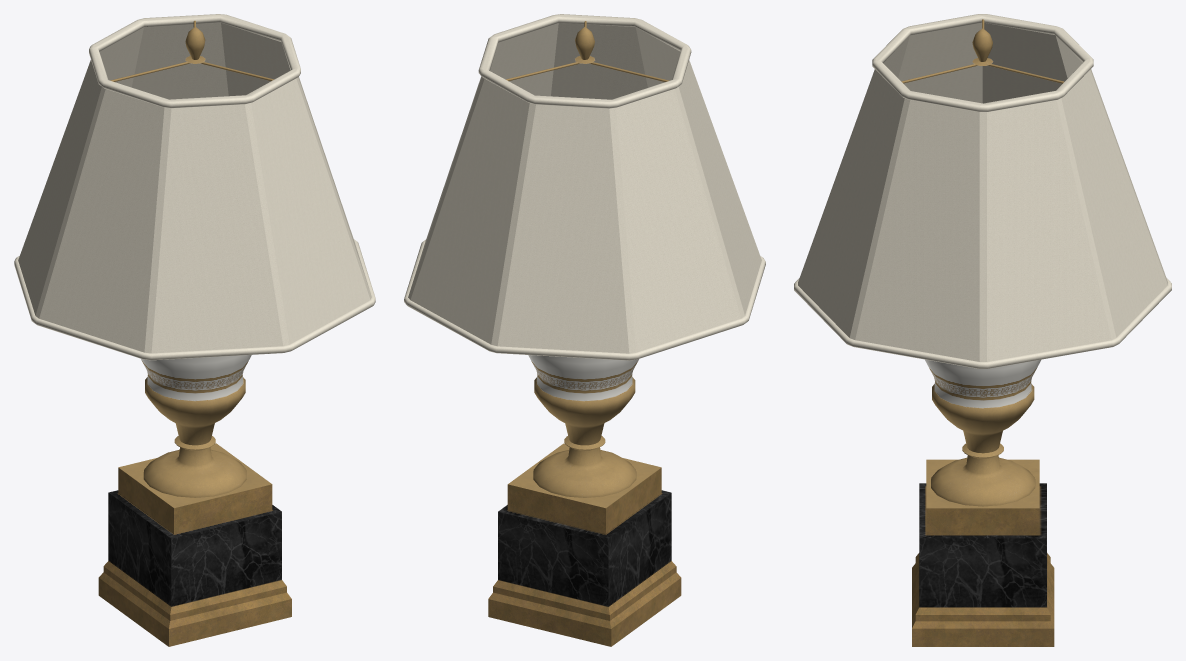
The model's file is LightTableRetro02.FBX.
3 renders of one model, left to right at view 1: azimuth 30°, elevation 25°; view 2: azimuth 150°, elevation 25°; view 3: azimuth 270°, elevation 25°, orthographic.
Visible parts, largest first — view 1: LightTableRetro02; view 2: LightTableRetro02; view 3: LightTableRetro02.
Boxes of the visible parts, x1,y1,x2,y2 form: LightTableRetro02: [14, 14, 375, 646]; LightTableRetro02: [404, 14, 765, 646]; LightTableRetro02: [794, 14, 1171, 646].
Size of the model in its own units: 0.3551 by 0.6101 by 0.3551.
